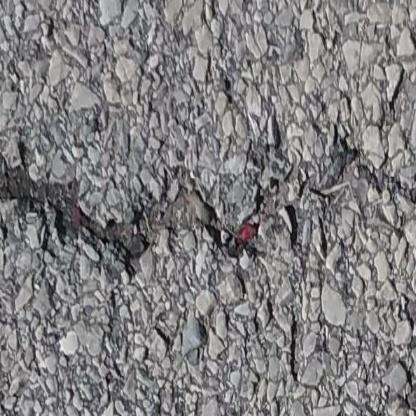Cracks: (0, 132, 416, 272), (398, 15, 416, 62)
